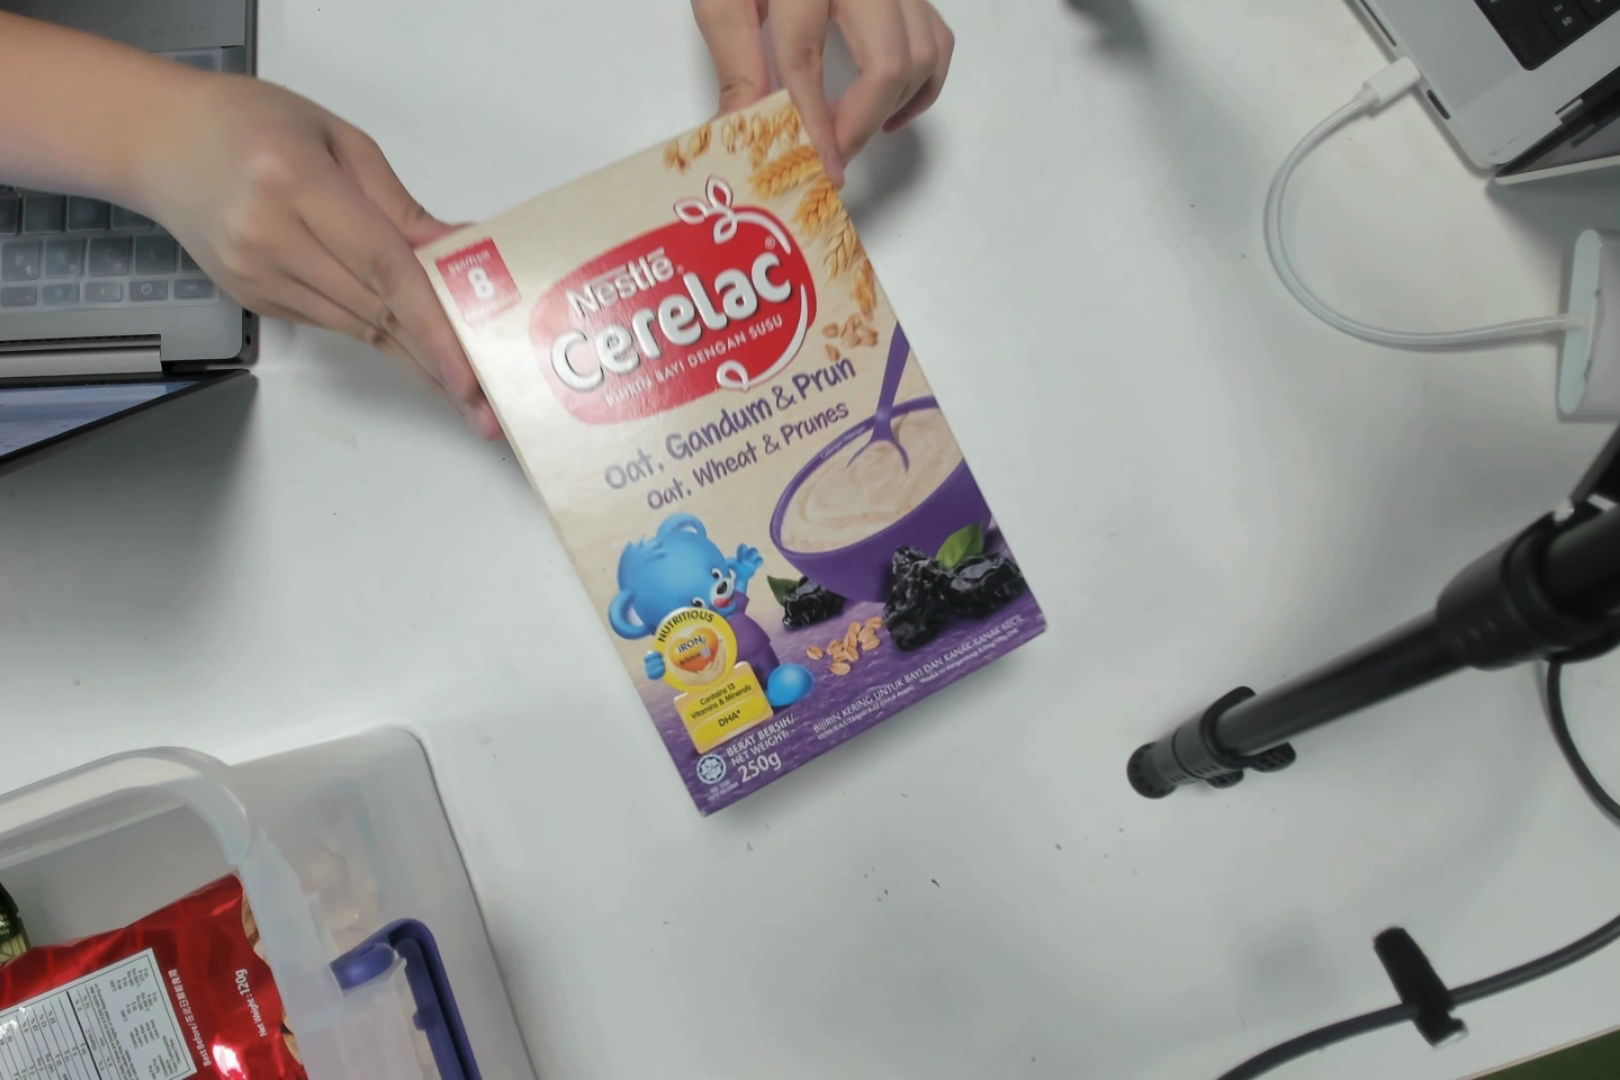d: (435, 231, 1022, 793)
